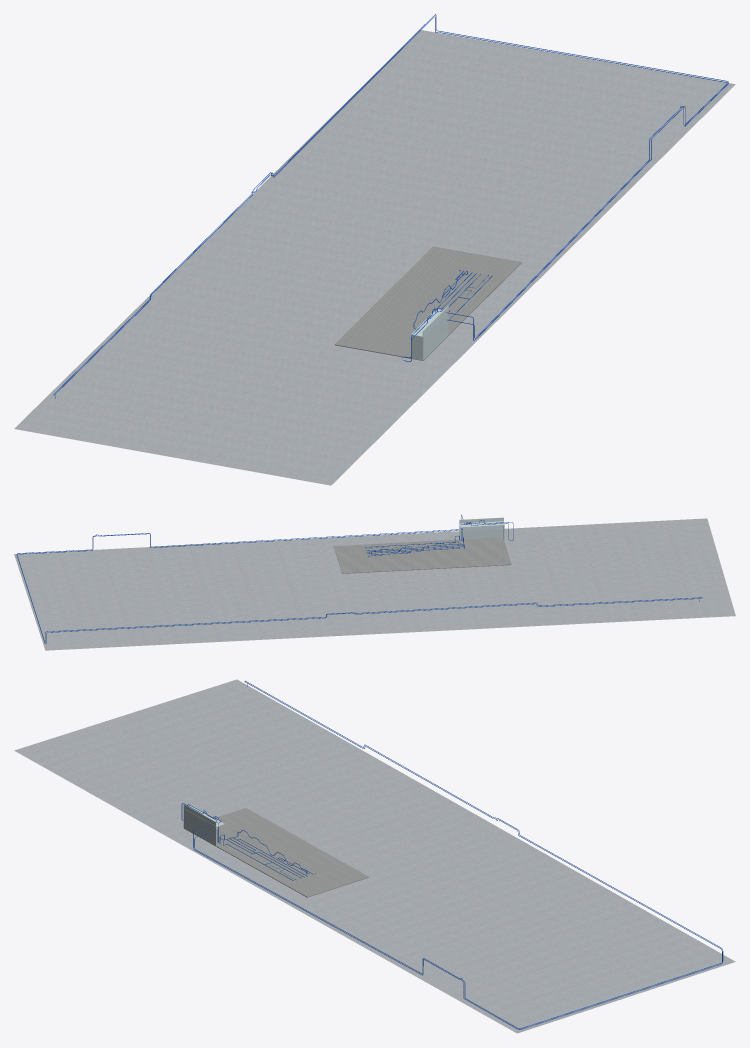
Rendered from 管道内外.glb.
3 renders of one model, top to bottom at view 1: azimuth 30°, elevation 25°; view 2: azimuth 150°, elevation 25°; view 3: azimuth 270°, elevation 25°, orthographic. The views are drawn at different scales.
Parts seen in each view (by area): view 1: 5厂区地板, 3屋内地板, 4二楼墙体, 管道75; view 2: 5厂区地板, 3屋内地板, 4二楼墙体, 管道75, 管道70, 管道77, 管道68, 管道72, 管道73; view 3: 5厂区地板, 3屋内地板, 4二楼墙体, 管道75, 管道70.
Boxes of the visible parts, x1,y1,x2,y2 form: 5厂区地板: (14, 30, 735, 485); 3屋内地板: (334, 246, 521, 360); 4二楼墙体: (411, 305, 448, 360); 管道75: (270, 14, 728, 175); 5厂区地板: (14, 518, 735, 650); 3屋内地板: (333, 537, 511, 573); 4二楼墙体: (459, 517, 504, 540); 管道75: (16, 535, 328, 642); 管道70: (17, 536, 328, 643); 管道77: (330, 597, 702, 614); 管道68: (97, 530, 458, 547); 管道72: (330, 598, 700, 614); 管道73: (100, 529, 456, 546); 5厂区地板: (14, 679, 735, 1033); 3屋内地板: (184, 808, 369, 897); 4二楼墙体: (183, 804, 224, 845); 管道75: (462, 829, 723, 1028); 管道70: (462, 829, 722, 1029).
Bounding box in the file's own units: 367 × 12.01 × 316.
Materials: 5 (2 with a texture image).
